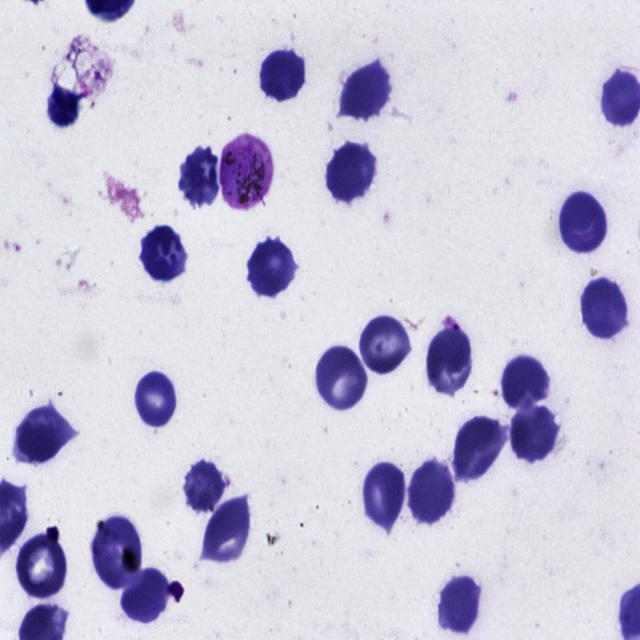gametocyte: (218, 135, 272, 210)
red blood cell: (91, 516, 142, 590), (316, 344, 368, 411), (453, 416, 504, 482), (13, 406, 71, 464), (17, 532, 66, 600), (559, 194, 609, 258), (359, 312, 408, 375), (408, 461, 456, 525), (342, 61, 394, 120), (201, 499, 250, 561), (580, 278, 628, 340), (326, 142, 376, 201), (429, 333, 475, 397), (511, 404, 560, 464), (120, 567, 170, 624), (363, 459, 406, 525), (132, 371, 179, 431), (438, 574, 482, 638), (248, 238, 296, 296), (140, 224, 187, 282), (182, 458, 227, 515), (180, 147, 222, 207), (260, 49, 306, 101), (501, 359, 549, 403), (49, 85, 80, 127)
